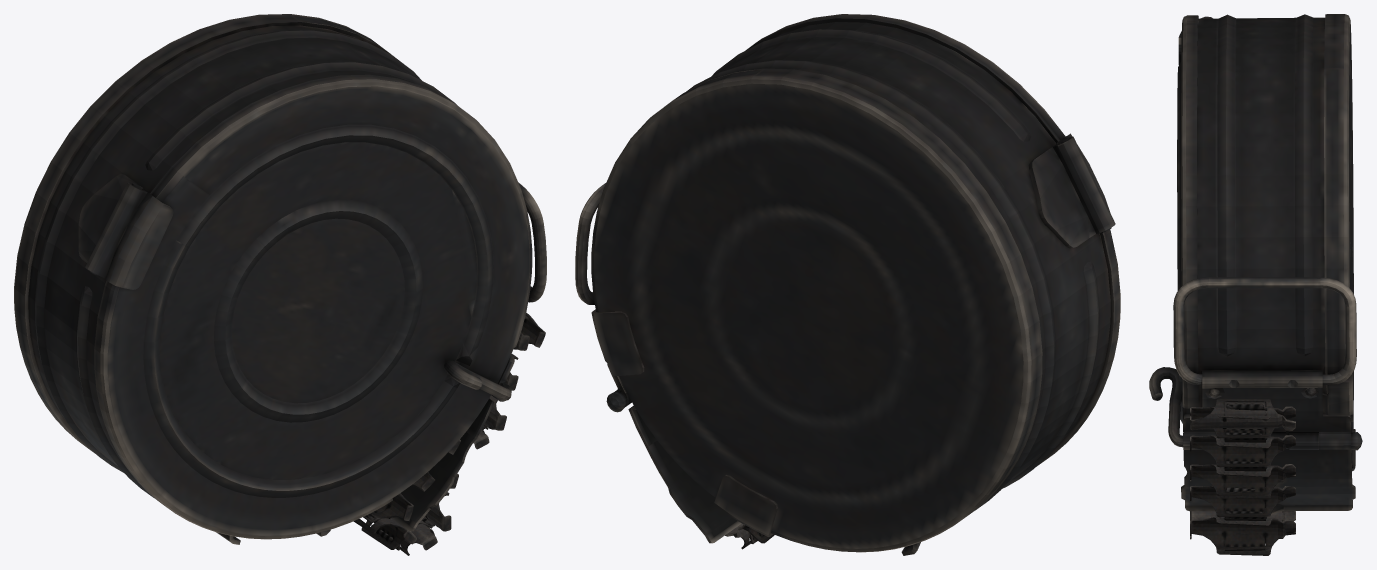
3 renders of one model, left to right at view 1: azimuth 30°, elevation 25°; view 2: azimuth 150°, elevation 25°; view 3: azimuth 270°, elevation 25°, orthographic. The views are drawn at different scales.
Visible parts, largest first — view 1: TW_6513f0a194c72326990a3868_PZ_Import; view 2: TW_6513f0a194c72326990a3868_PZ_Import; view 3: TW_6513f0a194c72326990a3868_PZ_Import.
Boxes of the visible parts, bbox=[...] form: TW_6513f0a194c72326990a3868_PZ_Import: bbox=[14, 14, 546, 555]; TW_6513f0a194c72326990a3868_PZ_Import: bbox=[575, 14, 1120, 555]; TW_6513f0a194c72326990a3868_PZ_Import: bbox=[1149, 14, 1362, 555].
Bounding box in the file's own units: 0.1002 × 0.0448 × 0.1089.
1 material, 1 textured.
